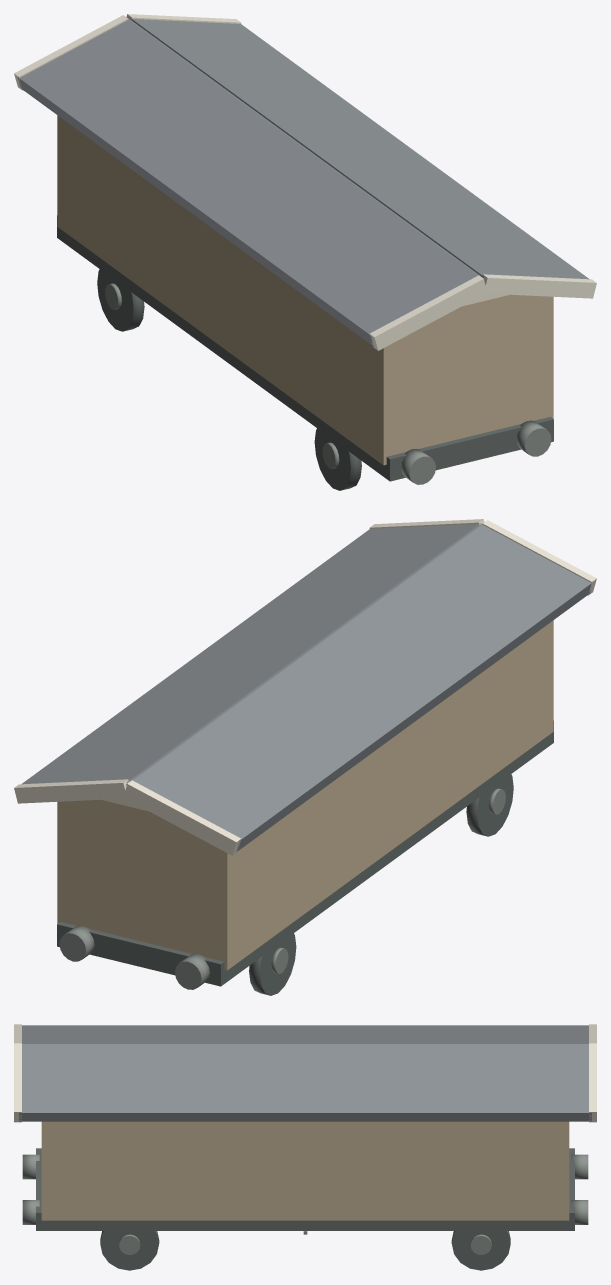
The model's file is rhine-goods_lod0.glb.
3 renders of one model, top to bottom at view 1: azimuth 30°, elevation 25°; view 2: azimuth 150°, elevation 25°; view 3: azimuth 270°, elevation 25°, orthographic. The views are drawn at different scales.
Visible parts, largest first — view 1: RF_GoodsBody, RF_Roof.001, RF_Roof, RF_Chassis, RF_Vergeband.001, RF_Vergeband.003, RF_Wheel.003, RF_Wheel.001, RF_Buffer.002, RF_Vergeband.002, RF_Buffer.001, RF_Ridge; view 2: RF_GoodsBody, RF_Roof.001, RF_Roof, RF_Chassis, RF_Vergeband.002, RF_Vergeband, RF_Wheel.001, RF_Wheel.003, RF_Vergeband.001, RF_Buffer, RF_Buffer.003, RF_Ridge; view 3: RF_Roof, RF_GoodsBody, RF_SlidingDoor, RF_Roof.001, RF_Chassis, RF_Wheel.002, RF_Wheel, RF_Vergeband.003, RF_Vergeband, RF_Buffer.001, RF_Buffer.003, RF_Buffer.002 (+3 smaller).
Part boxes in pixels (x1,y1,x2,y2): RF_GoodsBody: [57, 115, 553, 465]; RF_Roof.001: [17, 20, 477, 346]; RF_Roof: [130, 18, 589, 279]; RF_Chassis: [57, 215, 553, 481]; RF_Vergeband.001: [369, 275, 487, 350]; RF_Vergeband.003: [482, 274, 596, 298]; RF_Wheel.003: [97, 269, 144, 331]; RF_Wheel.001: [314, 428, 361, 490]; RF_Buffer.002: [516, 420, 551, 456]; RF_Vergeband.002: [14, 15, 128, 90]; RF_Buffer.001: [401, 449, 435, 484]; RF_Ridge: [128, 18, 484, 279]; RF_GoodsBody: [57, 620, 553, 970]; RF_Roof.001: [133, 525, 591, 852]; RF_Roof: [21, 523, 480, 784]; RF_Chassis: [57, 720, 553, 986]; RF_Vergeband.002: [123, 780, 241, 855]; RF_Vergeband: [14, 779, 128, 803]; RF_Wheel.001: [466, 774, 513, 836]; RF_Wheel.003: [249, 933, 296, 995]; RF_Vergeband.001: [482, 520, 596, 595]; RF_Buffer: [59, 925, 94, 961]; RF_Buffer.003: [175, 954, 209, 989]; RF_Ridge: [126, 523, 482, 784]; RF_Roof: [19, 1044, 591, 1121]; RF_GoodsBody: [41, 1121, 569, 1220]; RF_SlidingDoor: [237, 1121, 373, 1220]; RF_Roof.001: [22, 1025, 588, 1043]; RF_Chassis: [36, 1148, 574, 1230]; RF_Wheel.002: [100, 1231, 159, 1270]; RF_Wheel: [451, 1231, 510, 1270]; RF_Vergeband.003: [14, 1043, 21, 1122]; RF_Vergeband: [589, 1043, 596, 1122]; RF_Buffer.001: [22, 1154, 39, 1179]; RF_Buffer.003: [571, 1154, 588, 1179]; RF_Buffer.002: [22, 1200, 39, 1224].
Bounding box in the file's own units: 3.66 × 3.82 × 10.28.
